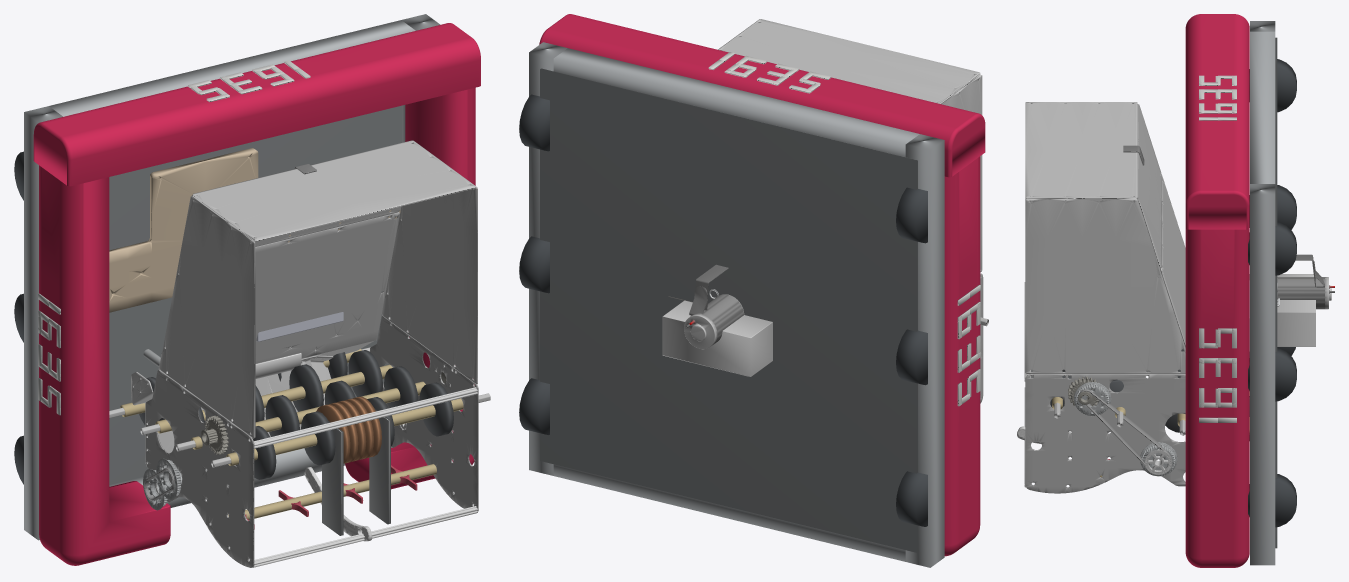
The model's file is kitbot.glb.
The picture shows the model from 3 angles, left to right: view 1: azimuth 30°, elevation 25°; view 2: azimuth 150°, elevation 25°; view 3: azimuth 270°, elevation 25°; orthographic projection. The views are drawn at different scales.
Visible parts, largest first — view 1: bumpers, hopper, chassis, intake, launcher2, power, hopper2, frame2, bumpers2, intake2, launcher, deck; view 2: chassis, bumpers, hopper, power, bumpers2, drive, deck; view 3: hopper, bumpers, chassis, intake, deck, bumpers2, drive, power, launcher2, launcher, hopper2.
Boxes of the visible parts, x1,y1,x2,y2 form: bumpers: [33, 23, 480, 565]; hopper: [159, 140, 477, 438]; chassis: [14, 14, 440, 540]; intake: [131, 316, 490, 567]; launcher2: [143, 382, 463, 535]; power: [109, 148, 400, 341]; hopper2: [140, 349, 436, 529]; frame2: [253, 387, 477, 567]; bumpers2: [38, 60, 310, 415]; intake2: [109, 347, 370, 436]; launcher: [200, 369, 453, 541]; deck: [191, 195, 401, 247]; chassis: [519, 42, 944, 567]; bumpers: [539, 14, 985, 556]; hopper: [718, 19, 982, 272]; power: [662, 300, 772, 376]; bumpers2: [708, 52, 980, 406]; drive: [668, 289, 744, 349]; deck: [689, 264, 728, 315]; hopper: [1025, 102, 1185, 373]; bumpers: [1185, 14, 1249, 567]; chassis: [1248, 21, 1296, 565]; intake: [1025, 369, 1185, 493]; deck: [1137, 104, 1324, 306]; bumpers2: [1199, 75, 1236, 422]; drive: [1080, 277, 1334, 466]; power: [1249, 274, 1315, 351]; launcher2: [1031, 369, 1177, 476]; launcher: [1017, 376, 1171, 474]; hopper2: [1100, 349, 1185, 477].
Bounding box in the file's own units: 1 × 0.991 × 0.7458.
